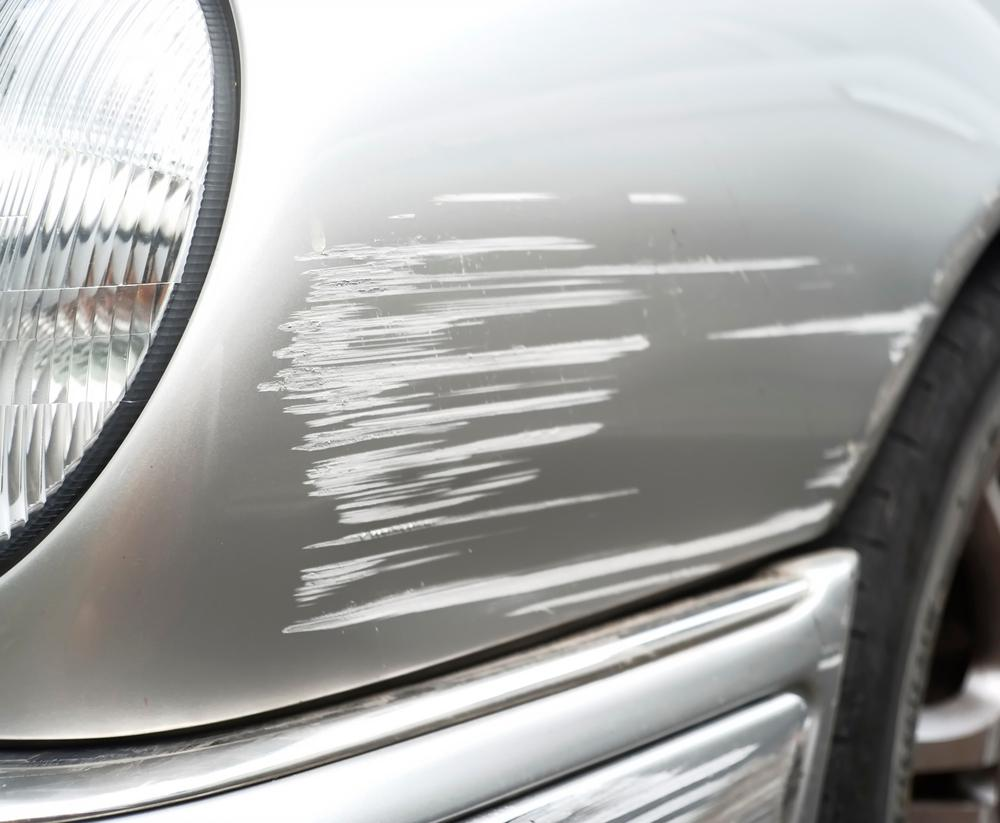scratch: (259, 179, 937, 645)
